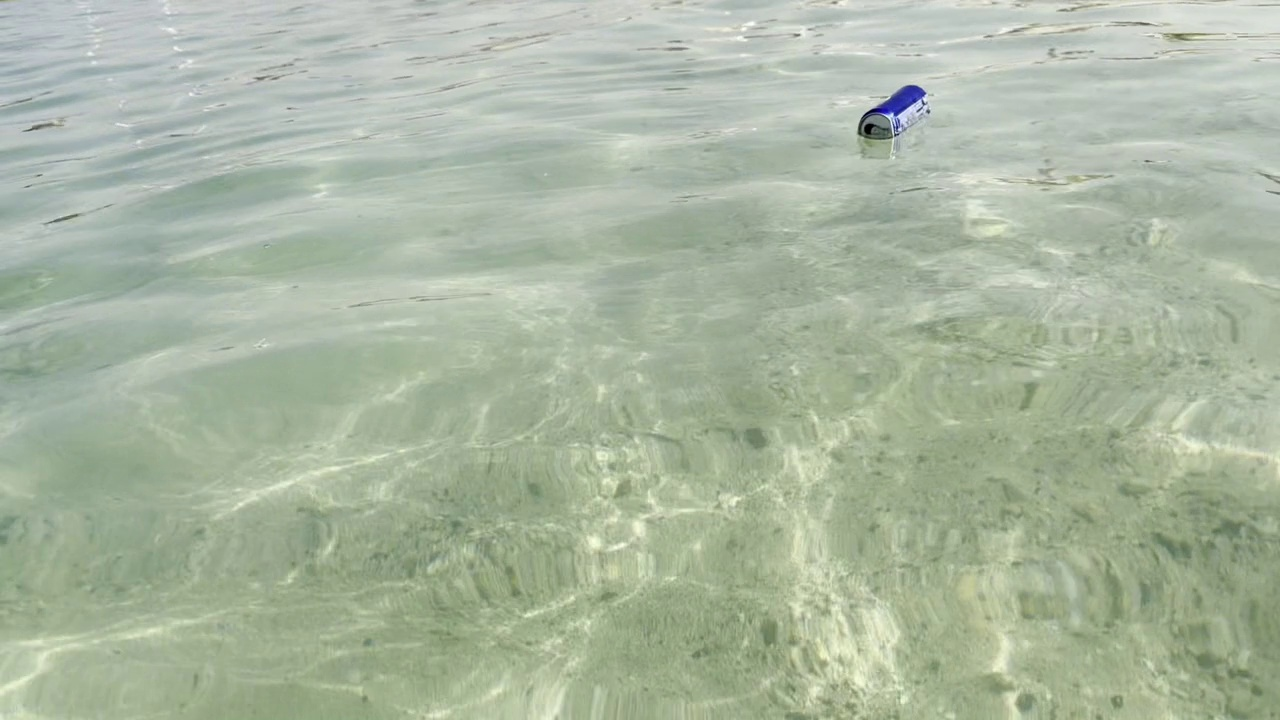debris: (850, 76, 933, 154)
